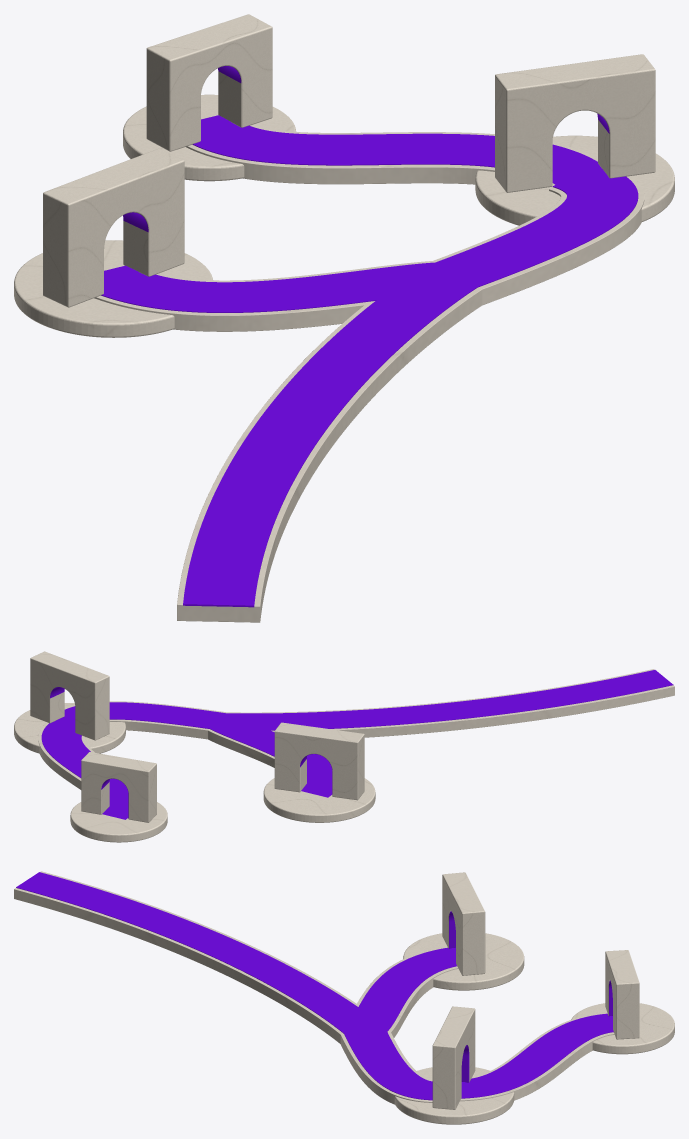
Rendered from hero.glb.
3 views of the same model, one above another, from view 1: azimuth 30°, elevation 25°; view 2: azimuth 150°, elevation 25°; view 3: azimuth 270°, elevation 25° (orthographic). The views are drawn at different scales.
Parts seen in each view (by area): view 1: path-violet, path, portal-support, portal-development, portal-automation, pad-development, pad-support, pad-automation, violet-support; view 2: path-violet, path, portal-development, portal-support, portal-automation, pad-development, pad-automation, pad-support, violet-development; view 3: path-violet, path, portal-support, portal-development, pad-development, portal-automation, pad-support, pad-automation.
Boxes of the visible parts, x1,y1,x2,y2 form: path-violet: (101, 124, 638, 607); path: (94, 124, 644, 622); portal-support: (495, 54, 655, 192); portal-development: (43, 148, 184, 307); portal-automation: (146, 14, 272, 151); pad-development: (14, 240, 212, 337); pad-support: (475, 135, 674, 225); pad-automation: (123, 94, 296, 181); violet-support: (552, 160, 607, 188); path-violet: (41, 670, 673, 808); path: (38, 669, 674, 789); portal-development: (274, 722, 364, 800); portal-support: (30, 651, 109, 740); portal-automation: (81, 752, 156, 822); pad-development: (263, 778, 375, 822); pad-automation: (70, 802, 167, 842); pad-support: (14, 703, 125, 753); violet-development: (301, 782, 332, 797); path-violet: (16, 872, 613, 1100); path: (14, 871, 614, 1104); portal-support: (432, 1006, 475, 1109); portal-development: (442, 872, 485, 975); pad-development: (403, 933, 524, 990); portal-automation: (605, 950, 639, 1039); pad-support: (394, 1067, 514, 1124); pad-automation: (571, 1003, 674, 1054).
Size of the model in its own units: 29.12 by 4.05 by 33.34.
Materials: 2 (1 with a texture image).
